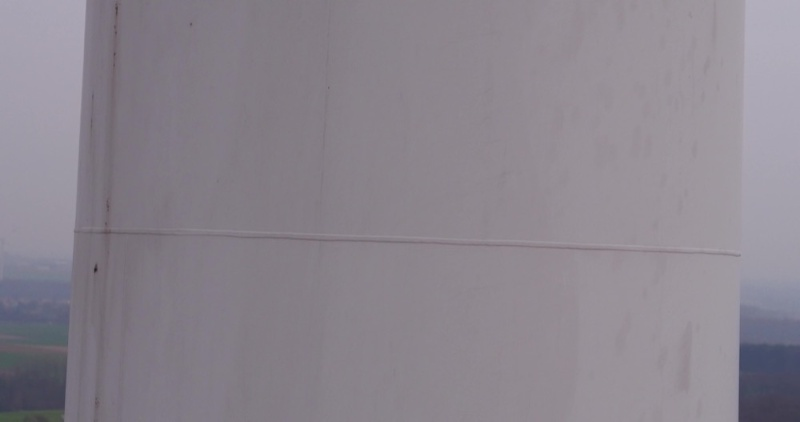weldseam: (67, 213, 746, 268)
